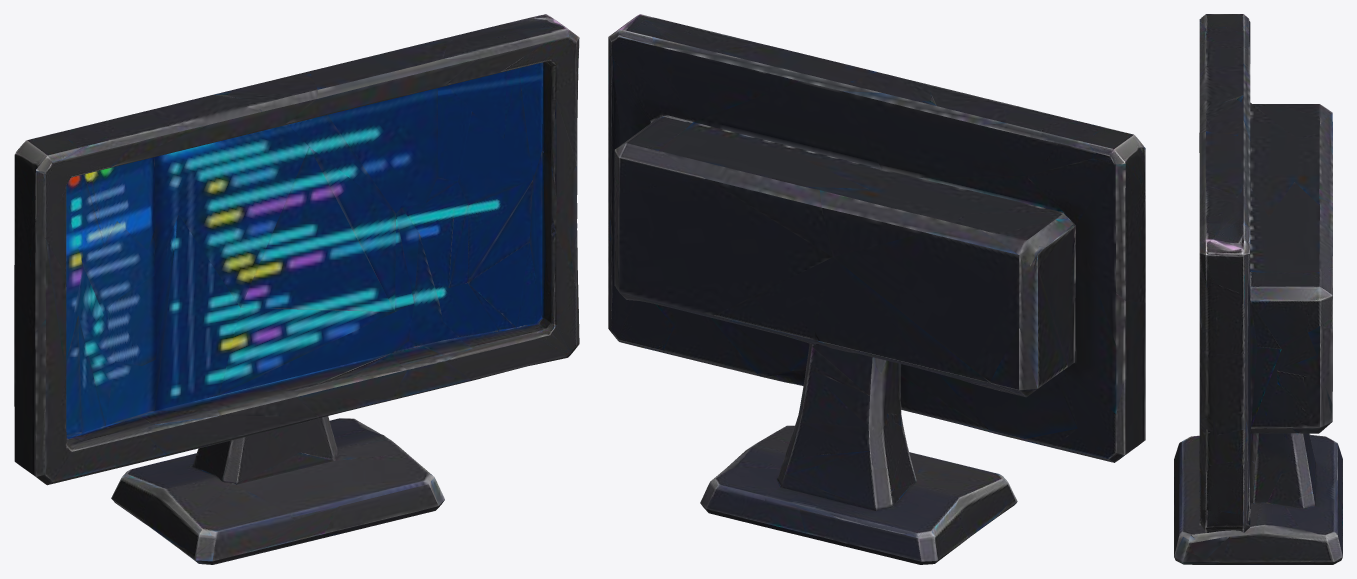
Rendered from monitor.glb.
The picture shows the model from 3 angles, left to right: view 1: azimuth 30°, elevation 25°; view 2: azimuth 150°, elevation 25°; view 3: azimuth 270°, elevation 25°; orthographic projection. The views are drawn at different scales.
Bounding box in the file's own units: 1.9 × 1.45 × 0.5739.
1 material, 1 textured.
